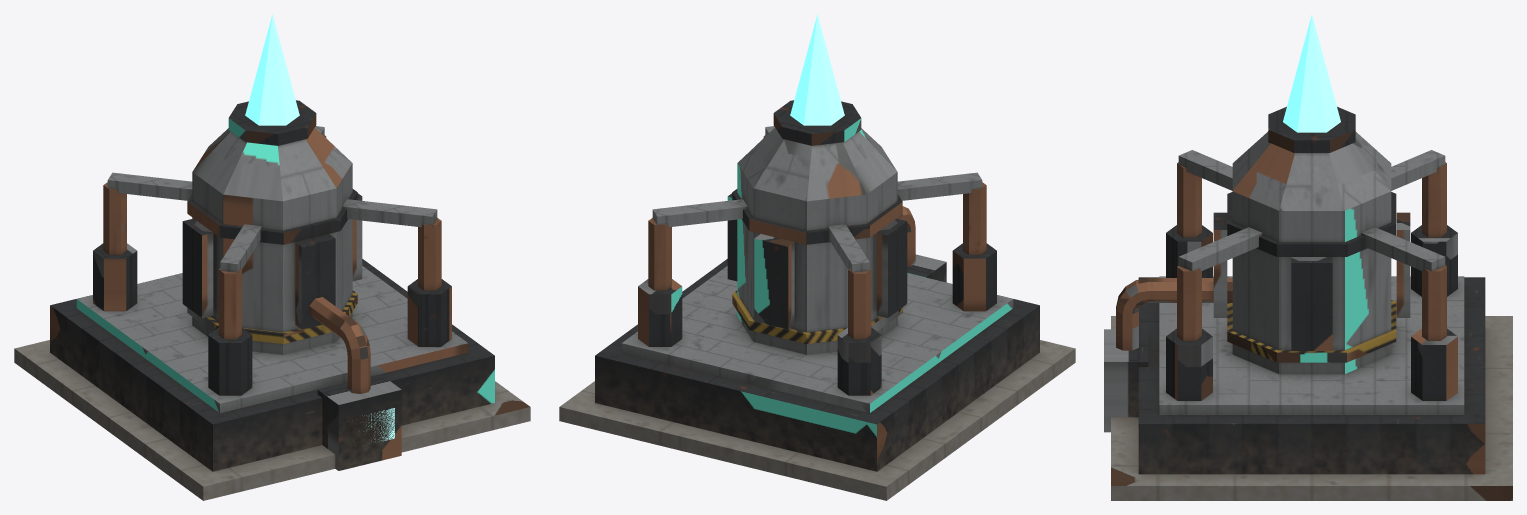
File: extrator_cristal.glb
3 renders of one model, left to right at view 1: azimuth 30°, elevation 25°; view 2: azimuth 150°, elevation 25°; view 3: azimuth 270°, elevation 25°, orthographic. The views are drawn at different scales.
Parts seen in each view (by area): view 1: extrator_cristal_corpo, extrator_cristal_hastes, extrator_cristal_cristal; view 2: extrator_cristal_corpo, extrator_cristal_hastes, extrator_cristal_cristal; view 3: extrator_cristal_corpo, extrator_cristal_hastes, extrator_cristal_cristal.
Boxes of the visible parts, bbox=[...] form: extrator_cristal_corpo: bbox=[14, 100, 530, 500]; extrator_cristal_hastes: bbox=[103, 126, 441, 339]; extrator_cristal_cristal: bbox=[245, 14, 299, 125]; extrator_cristal_corpo: bbox=[559, 100, 1075, 500]; extrator_cristal_hastes: bbox=[648, 126, 986, 339]; extrator_cristal_cristal: bbox=[790, 14, 844, 125]; extrator_cristal_corpo: bbox=[1104, 106, 1512, 500]; extrator_cristal_hastes: bbox=[1177, 150, 1446, 340]; extrator_cristal_cristal: bbox=[1283, 14, 1340, 132].
Bounding box in the file's own units: 2.9 × 3.2 × 2.95.
2 materials, 1 textured.
